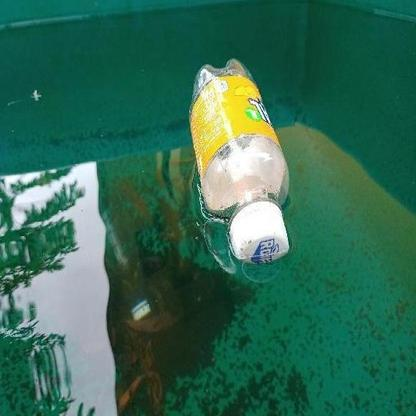plastic bottle: (189, 58, 291, 258)
